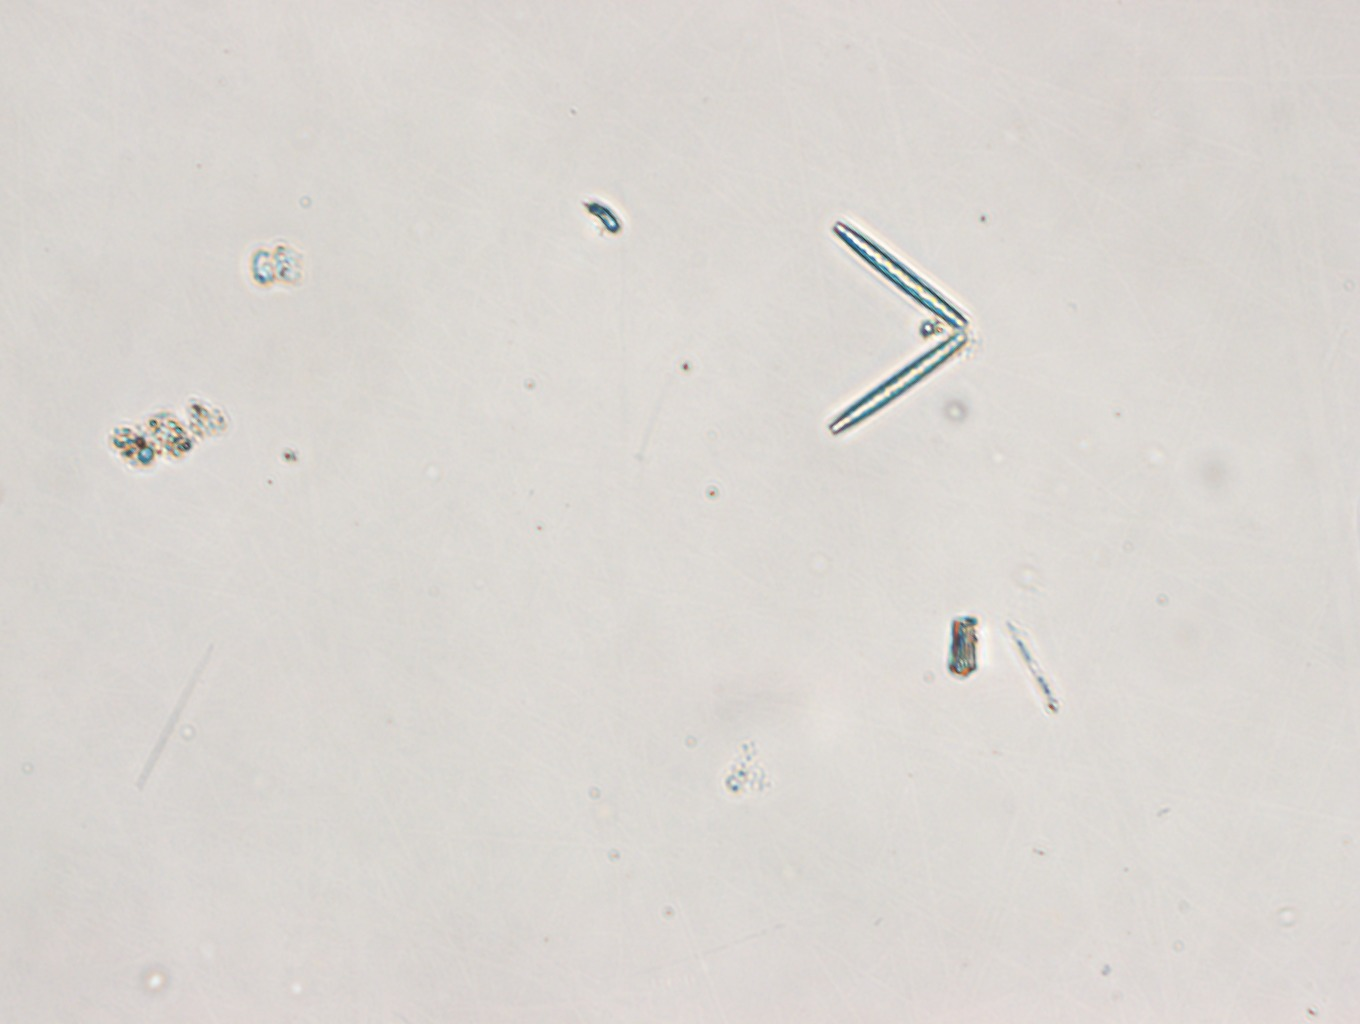thalassionema nitzschioides: (826, 216, 967, 433)
